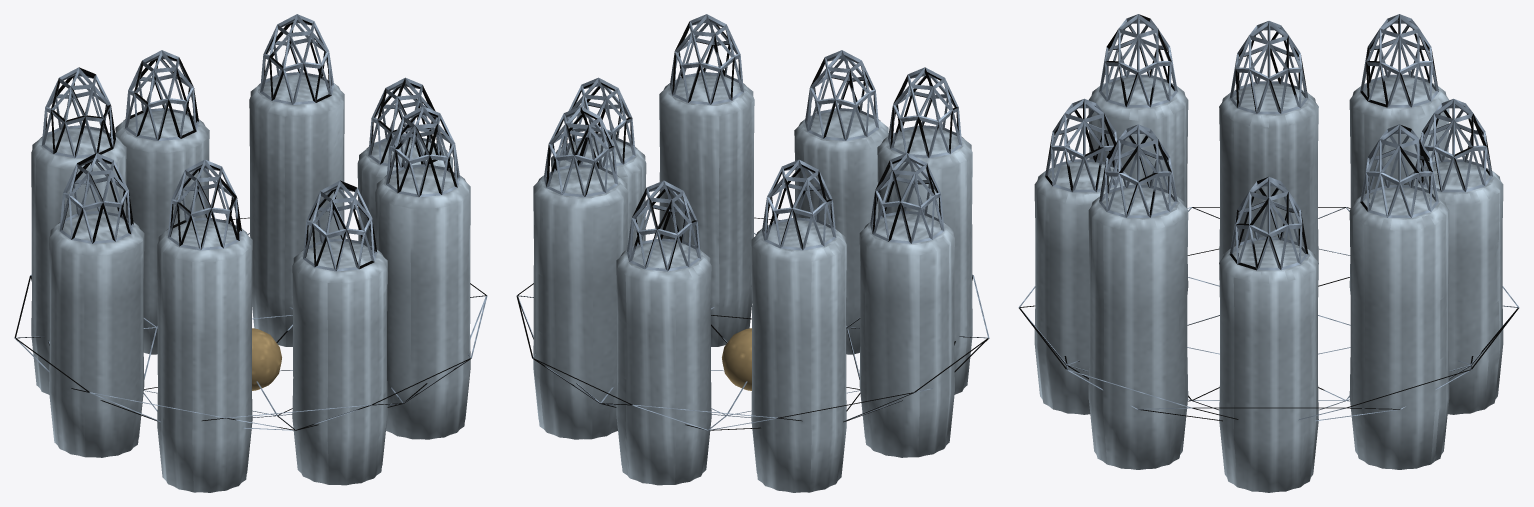
The model's file is rare_shell_cathedral.glb.
The picture shows the model from 3 angles, left to right: view 1: azimuth 30°, elevation 25°; view 2: azimuth 150°, elevation 25°; view 3: azimuth 270°, elevation 25°; orthographic projection. The views are drawn at different scales.
Visible parts, largest first — view 1: RareShellCathedral; view 2: RareShellCathedral; view 3: RareShellCathedral.
Boxes of the visible parts, left/top/right/bottom form: RareShellCathedral: left=14, top=14, right=487, bottom=492; RareShellCathedral: left=516, top=14, right=989, bottom=492; RareShellCathedral: left=1018, top=14, right=1519, bottom=492.
Bounding box in the file's own units: 8.78 × 6.94 × 9.23.
Materials: 3 (3 with a texture image).
